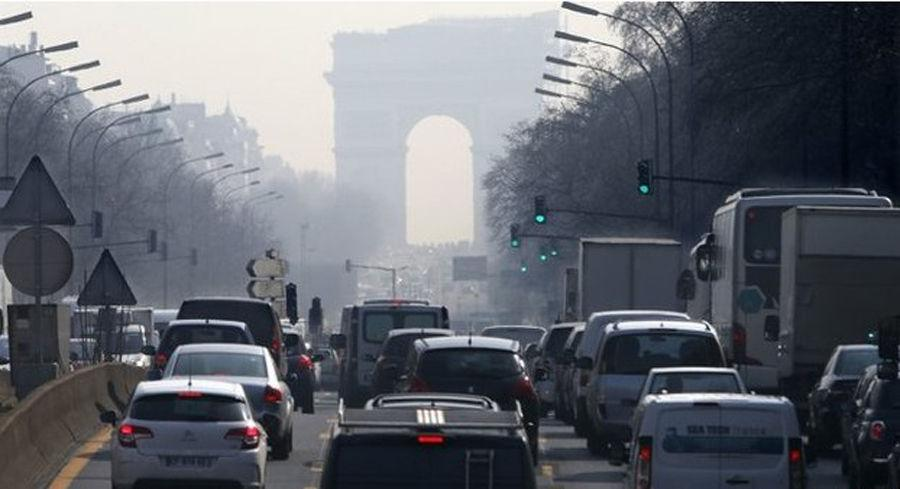bus: (690, 187, 898, 429), (762, 205, 900, 412), (674, 240, 808, 390), (328, 298, 453, 415), (566, 235, 686, 353), (339, 304, 419, 394), (558, 267, 634, 353)
car: (98, 351, 283, 488), (381, 321, 543, 469), (576, 319, 730, 456), (606, 391, 802, 489), (302, 409, 541, 489), (145, 342, 299, 462), (561, 310, 700, 440), (173, 296, 301, 407), (620, 367, 754, 470), (360, 392, 504, 483), (359, 318, 463, 431), (140, 315, 260, 409), (806, 345, 900, 454), (552, 326, 650, 426), (524, 322, 611, 416), (836, 362, 899, 488), (235, 329, 325, 415), (476, 324, 554, 406)
